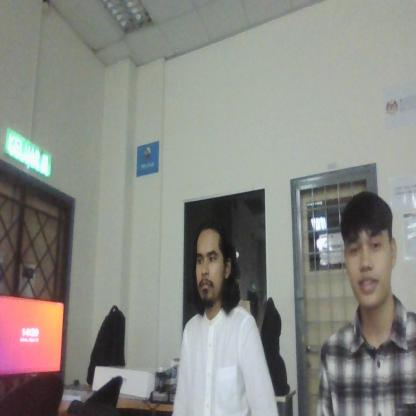Open-Eyes: (342, 228, 391, 264), (192, 245, 220, 270)
